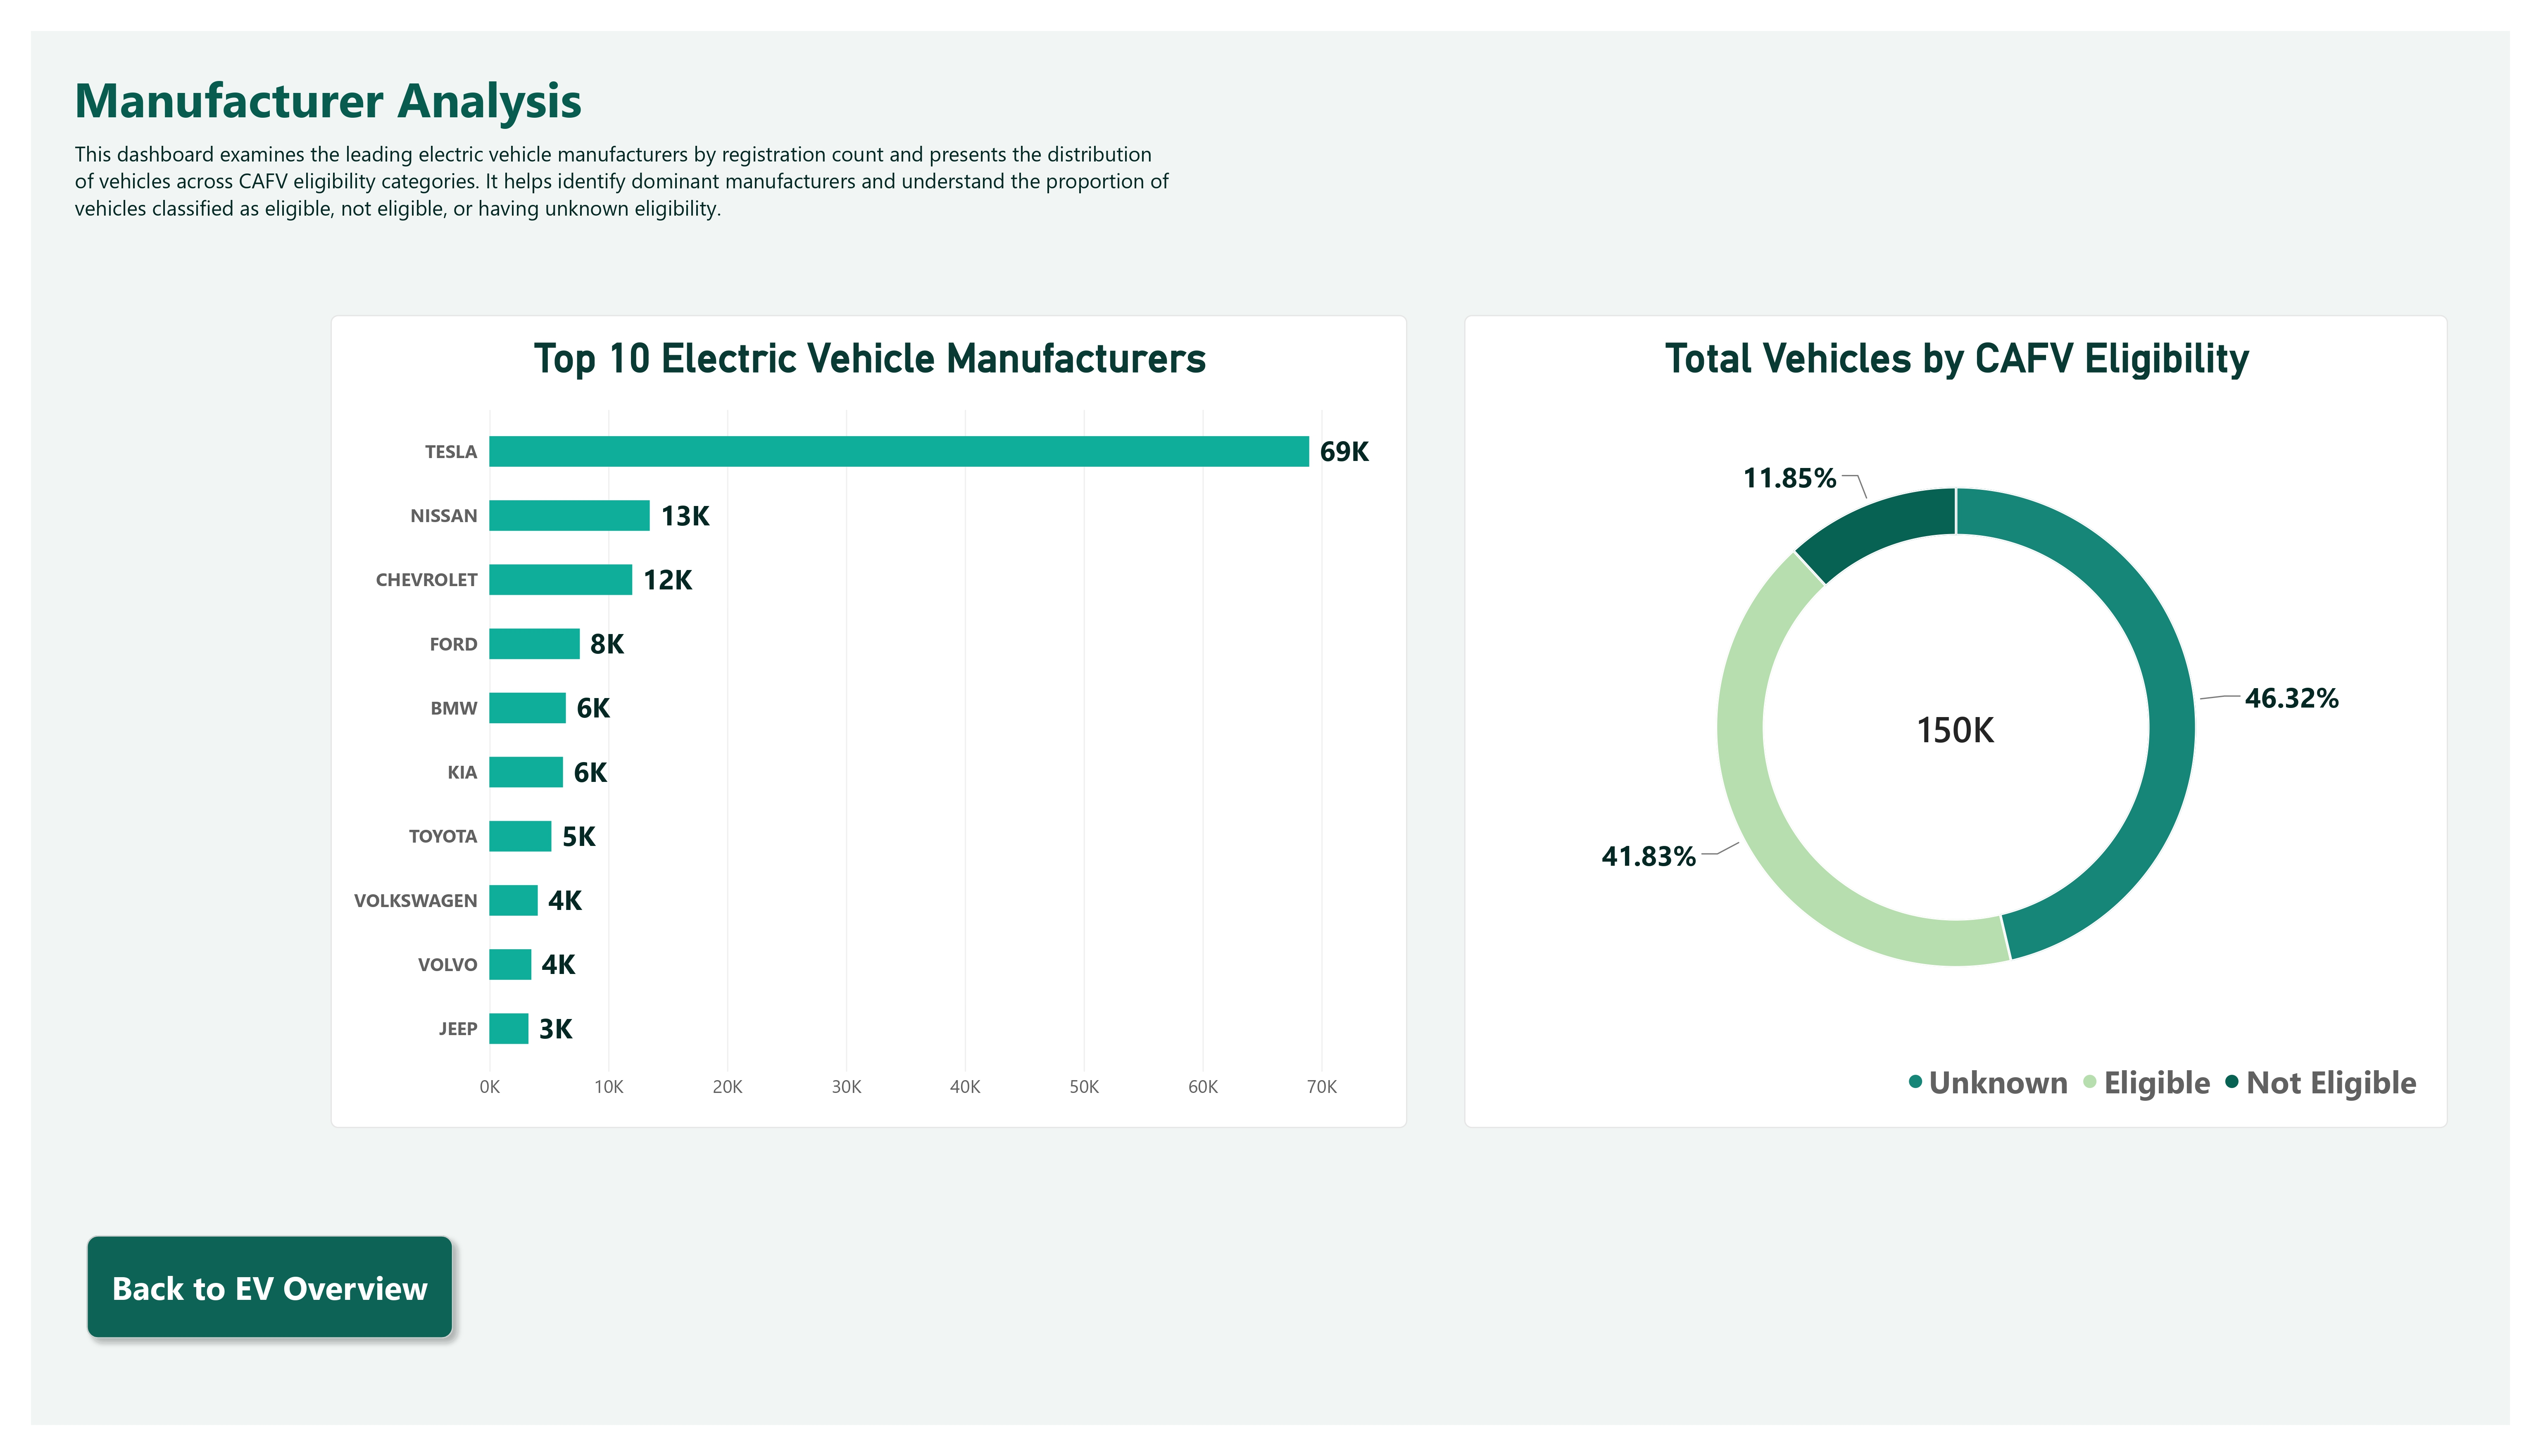

What the dashboard file says about the page in this screenshot:
{"tool":"powerbi","page":{"name":"Manufacturer Analysis","canvas":[1920,1080],"ordinal":1},"visuals":[{"type":"clusteredBarChart","title":"Top 10 Electric Vehicle Manufacturers","fields":{"Category":["EV_Data.Make"],"Y":["EV_Data.Total Vehicles"]},"box":[232,220,834,630],"z":0},{"type":"donutChart","title":"Total Vehicles by CAFV Eligibility","fields":{"Category":["EV_Data.CAFV Category 1"],"Y":["EV_Data.Total Vehicles"]},"box":[1110,220,762,630],"z":1000},{"type":"textbox","box":[33.3,26.7,398.8,56.2],"z":2000},{"type":"textbox","box":[33.6,83.6,851.8,88.2],"z":3000},{"type":"actionButton","box":[34,924,302,98],"z":4000}]}

Visuals, with their boxes on the page's 1920x1080 design canvas (x1, y1, x2, y2). These are canvas units, not pixel positions in the 2541x1456 screenshot, which may show the page scaled, cropped or inside an application window:
"Top 10 Electric Vehicle Manufacturers" clusteredBarChart: 232,220,1066,850
"Total Vehicles by CAFV Eligibility" donutChart: 1110,220,1872,850
textbox: 33,27,432,83
textbox: 34,84,885,172
actionButton: 34,924,336,1022
